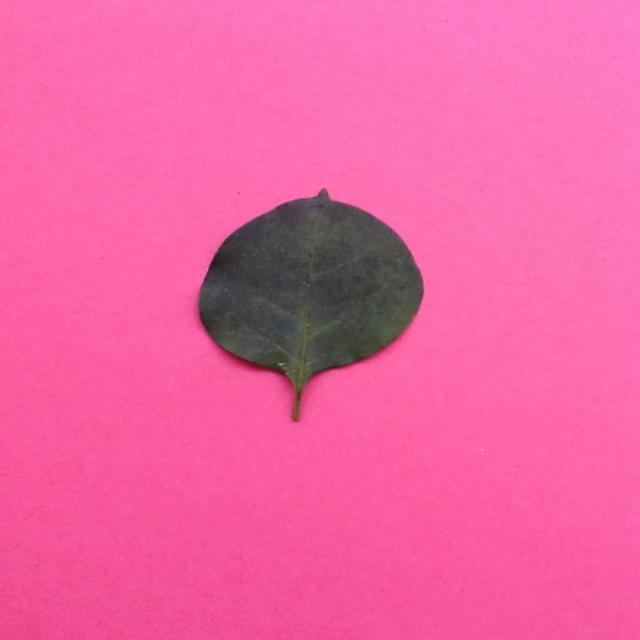foliage: (199, 184, 427, 422)
